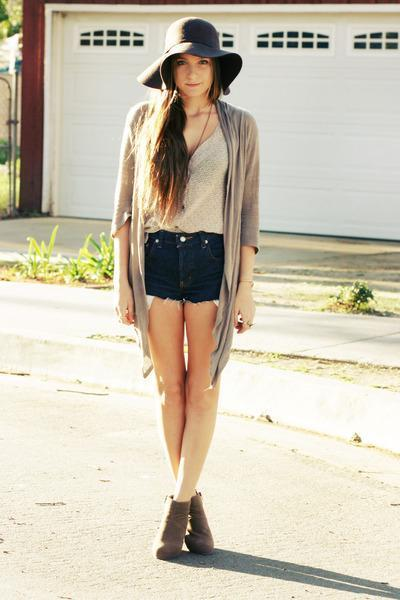hat: (159, 17, 241, 83)
jacket: (108, 108, 275, 369)
shirt: (134, 132, 227, 232)
shoe: (136, 480, 212, 555)
shorts: (144, 230, 224, 320)
